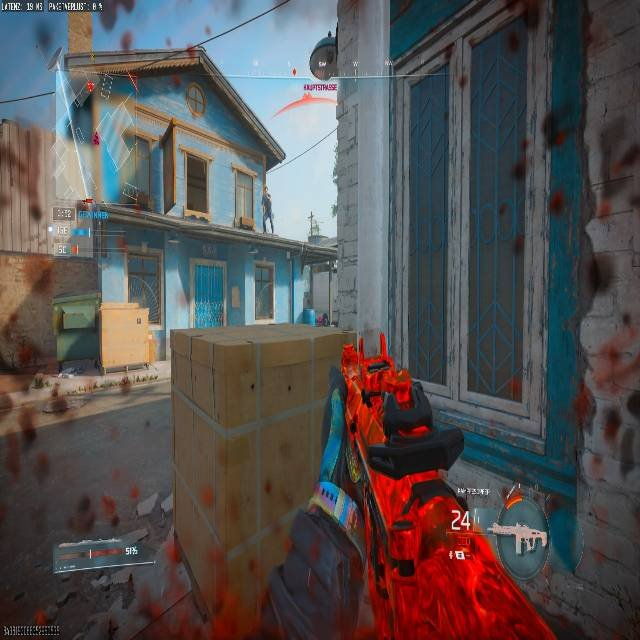player: (316, 312, 328, 326)
